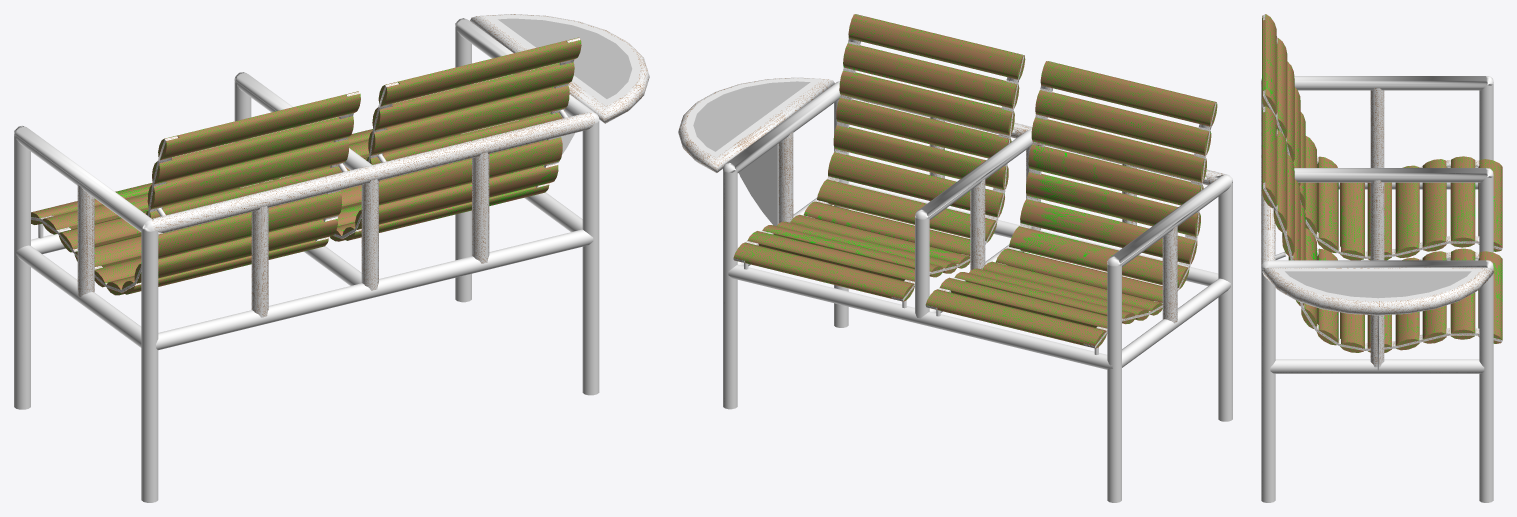
The picture shows the model from 3 angles, left to right: view 1: azimuth 30°, elevation 25°; view 2: azimuth 150°, elevation 25°; view 3: azimuth 270°, elevation 25°; orthographic projection. The views are drawn at different scales.
Visible parts, largest first — view 1: mesh7_mesh7-geometry, mesh1_mesh1-geometry, mesh3_mesh3-geometry, mesh73_mesh73-geometry, mesh74_mesh74-geometry, mesh4_mesh4-geometry, mesh72_mesh72-geometry, mesh8_mesh8-geometry, mesh2_mesh2-geometry; view 2: mesh7_mesh7-geometry, mesh1_mesh1-geometry, mesh3_mesh3-geometry, mesh73_mesh73-geometry, mesh4_mesh4-geometry, mesh72_mesh72-geometry, mesh8_mesh8-geometry, mesh2_mesh2-geometry, mesh75_mesh75-geometry, mesh74_mesh74-geometry; view 3: mesh7_mesh7-geometry, mesh1_mesh1-geometry, mesh73_mesh73-geometry, mesh72_mesh72-geometry, mesh3_mesh3-geometry, mesh4_mesh4-geometry, mesh8_mesh8-geometry, mesh2_mesh2-geometry, mesh74_mesh74-geometry.
Part boxes in pixels (box(x1,y1,x2,y2)): mesh7_mesh7-geometry: box(31, 37, 581, 295); mesh1_mesh1-geometry: box(14, 28, 599, 502); mesh3_mesh3-geometry: box(16, 192, 593, 350); mesh73_mesh73-geometry: box(470, 14, 649, 123); mesh74_mesh74-geometry: box(150, 112, 594, 234); mesh4_mesh4-geometry: box(77, 115, 535, 317); mesh72_mesh72-geometry: box(14, 72, 374, 231); mesh8_mesh8-geometry: box(31, 38, 580, 292); mesh2_mesh2-geometry: box(455, 18, 599, 123); mesh7_mesh7-geometry: box(733, 14, 1217, 348); mesh1_mesh1-geometry: box(723, 99, 1232, 502); mesh3_mesh3-geometry: box(728, 183, 1230, 369); mesh73_mesh73-geometry: box(678, 77, 834, 172); mesh4_mesh4-geometry: box(778, 116, 1177, 323); mesh72_mesh72-geometry: box(915, 128, 1232, 266); mesh8_mesh8-geometry: box(733, 14, 1216, 348); mesh2_mesh2-geometry: box(723, 81, 840, 172); mesh75_mesh75-geometry: box(739, 144, 778, 225); mesh74_mesh74-geometry: box(852, 97, 1226, 185); mesh7_mesh7-geometry: box(1262, 14, 1502, 352); mesh1_mesh1-geometry: box(1261, 84, 1493, 502); mesh73_mesh73-geometry: box(1262, 267, 1493, 315); mesh72_mesh72-geometry: box(1261, 76, 1493, 182); mesh3_mesh3-geometry: box(1270, 182, 1484, 373); mesh4_mesh4-geometry: box(1370, 88, 1384, 367); mesh8_mesh8-geometry: box(1263, 14, 1502, 350); mesh2_mesh2-geometry: box(1261, 260, 1493, 269); mesh74_mesh74-geometry: box(1261, 80, 1275, 264).
Bounding box in the file's own units: 0.7957 × 0.4931 × 0.3516.
